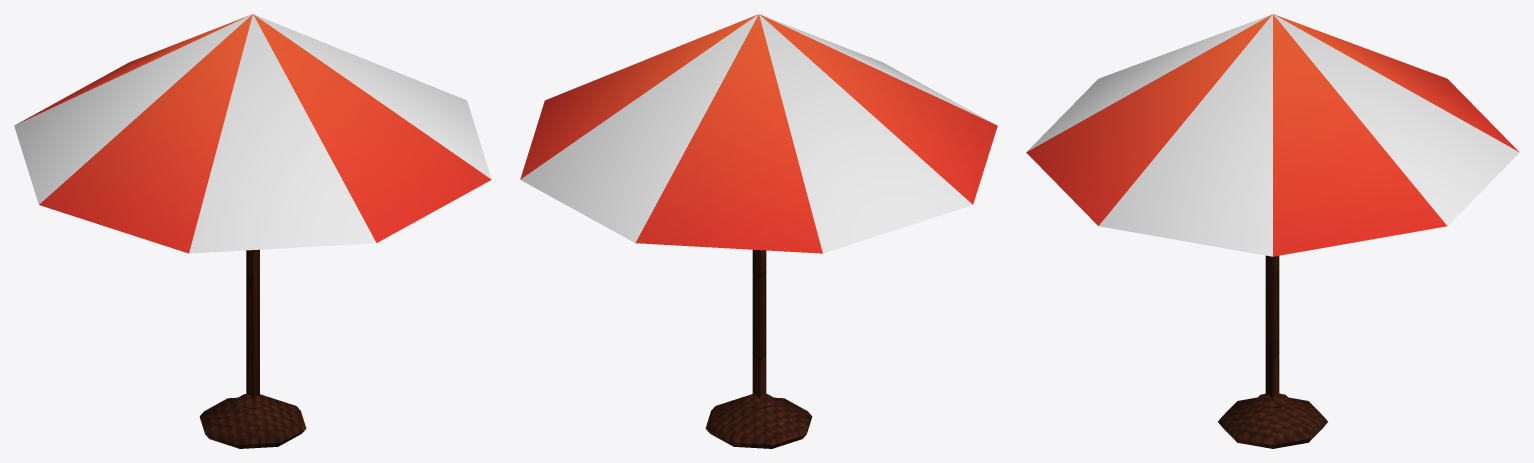
The model's file is Rattan_BeachUnmbrella_02.FBX.
3 renders of one model, left to right at view 1: azimuth 30°, elevation 25°; view 2: azimuth 150°, elevation 25°; view 3: azimuth 270°, elevation 25°, orthographic.
Parts seen in each view (by area): view 1: Rattan_BeachUnmbrella_02; view 2: Rattan_BeachUnmbrella_02; view 3: Rattan_BeachUnmbrella_02.
Boxes of the visible parts, bbox=[...] form: Rattan_BeachUnmbrella_02: bbox=[14, 14, 491, 448]; Rattan_BeachUnmbrella_02: bbox=[520, 14, 997, 448]; Rattan_BeachUnmbrella_02: bbox=[1026, 14, 1519, 448].
Size of the model in its own units: 3.04 by 3.04 by 2.81.
